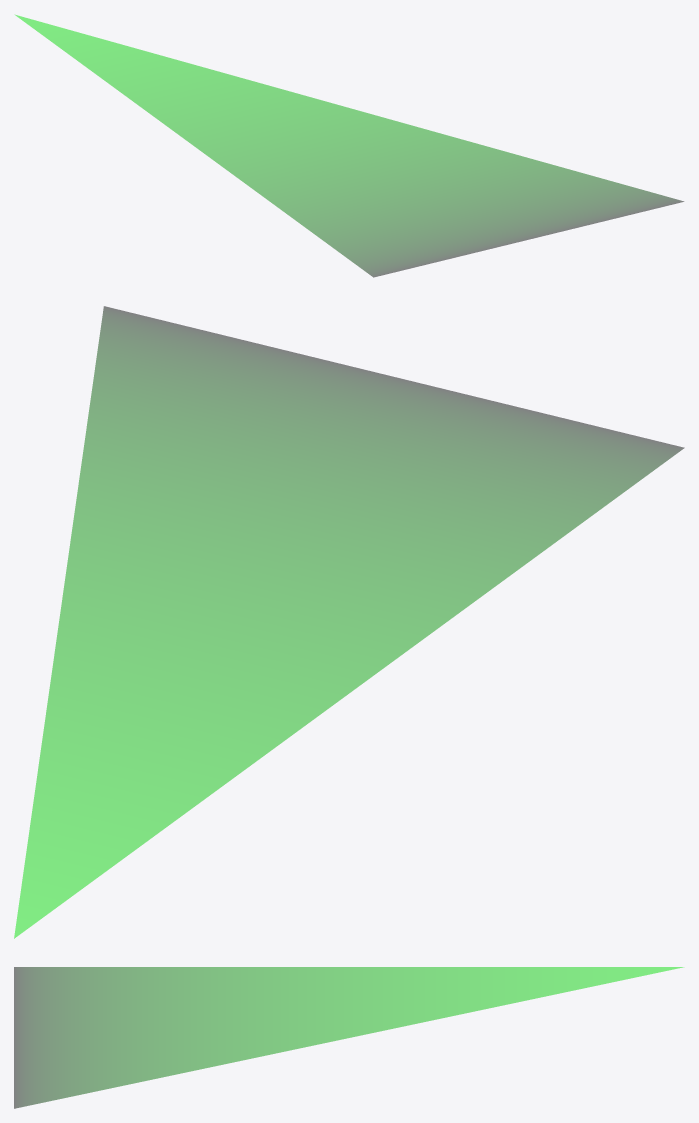
The model's file is triangle_vertex_color.dae.
3 views of the same model, one above another, from view 1: azimuth 30°, elevation 25°; view 2: azimuth 150°, elevation 25°; view 3: azimuth 270°, elevation 25° (orthographic). The views are drawn at different scales.
Parts seen in each view (by area): view 1: tri; view 2: tri; view 3: tri.
Boxes of the visible parts, x1=… form: tri: x1=15, y1=15, x2=683, y2=277; tri: x1=14, y1=306, x2=684, y2=938; tri: x1=14, y1=967, x2=683, y2=1108.
Size of the model in its own units: 1 by 2 by 0.
